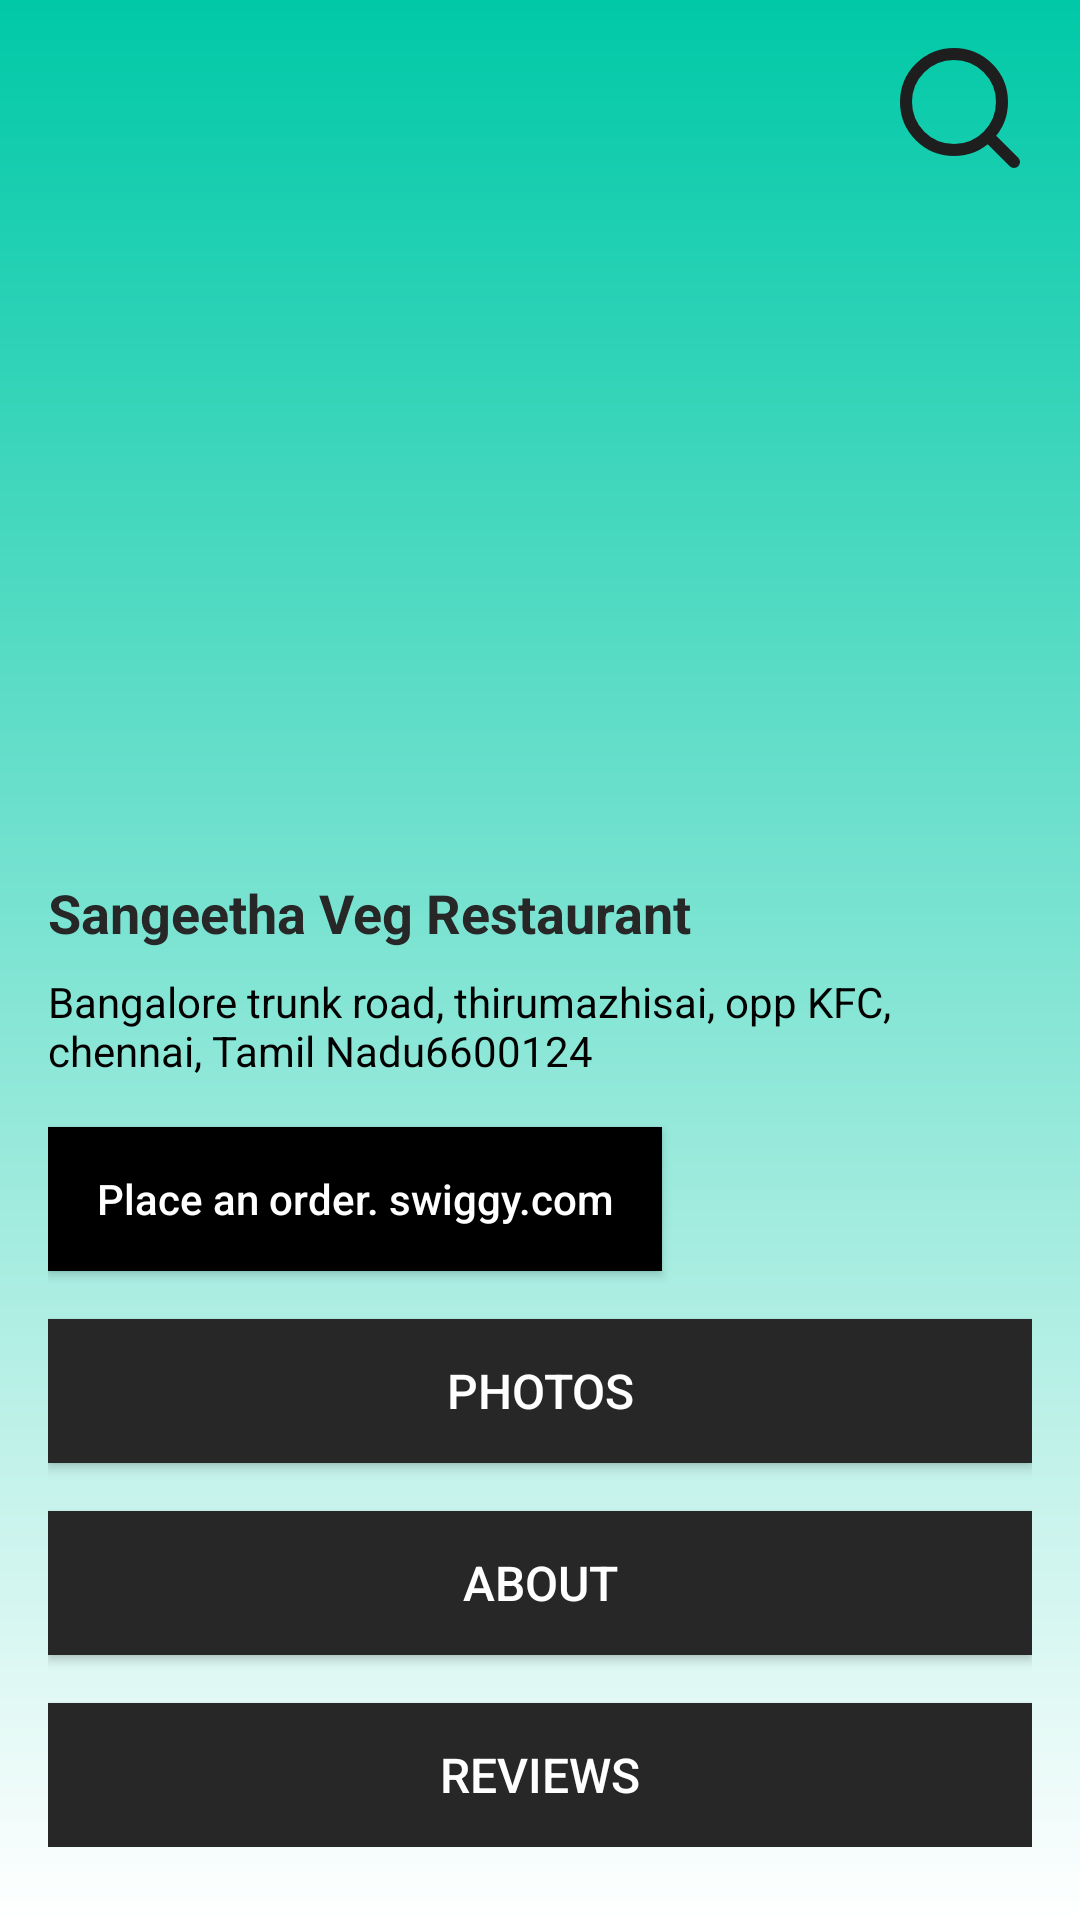

Screen size 1080x1920. Icon name, then its box in pixels as (x1, y1, x2, y2):
Search: (900, 48, 1020, 168)
